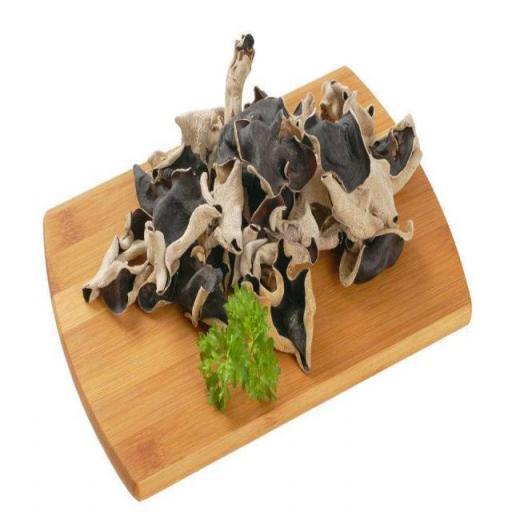mushroom: (84, 31, 422, 379)
